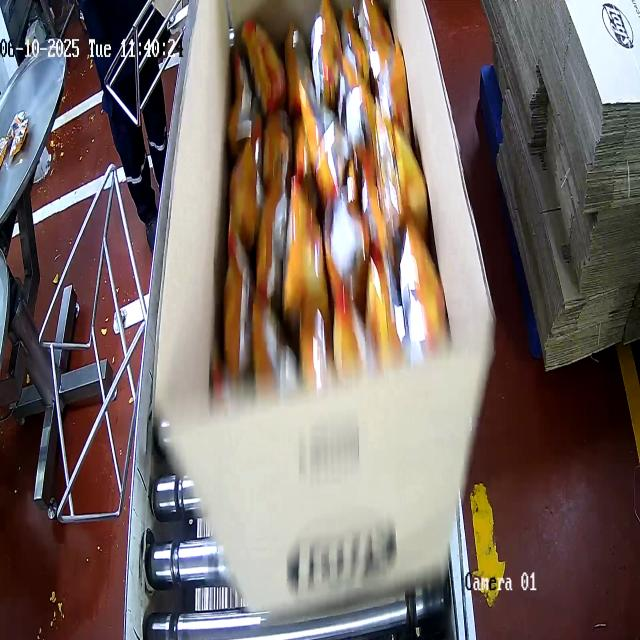FRENCH_CHEESE: (218, 0, 420, 418)
